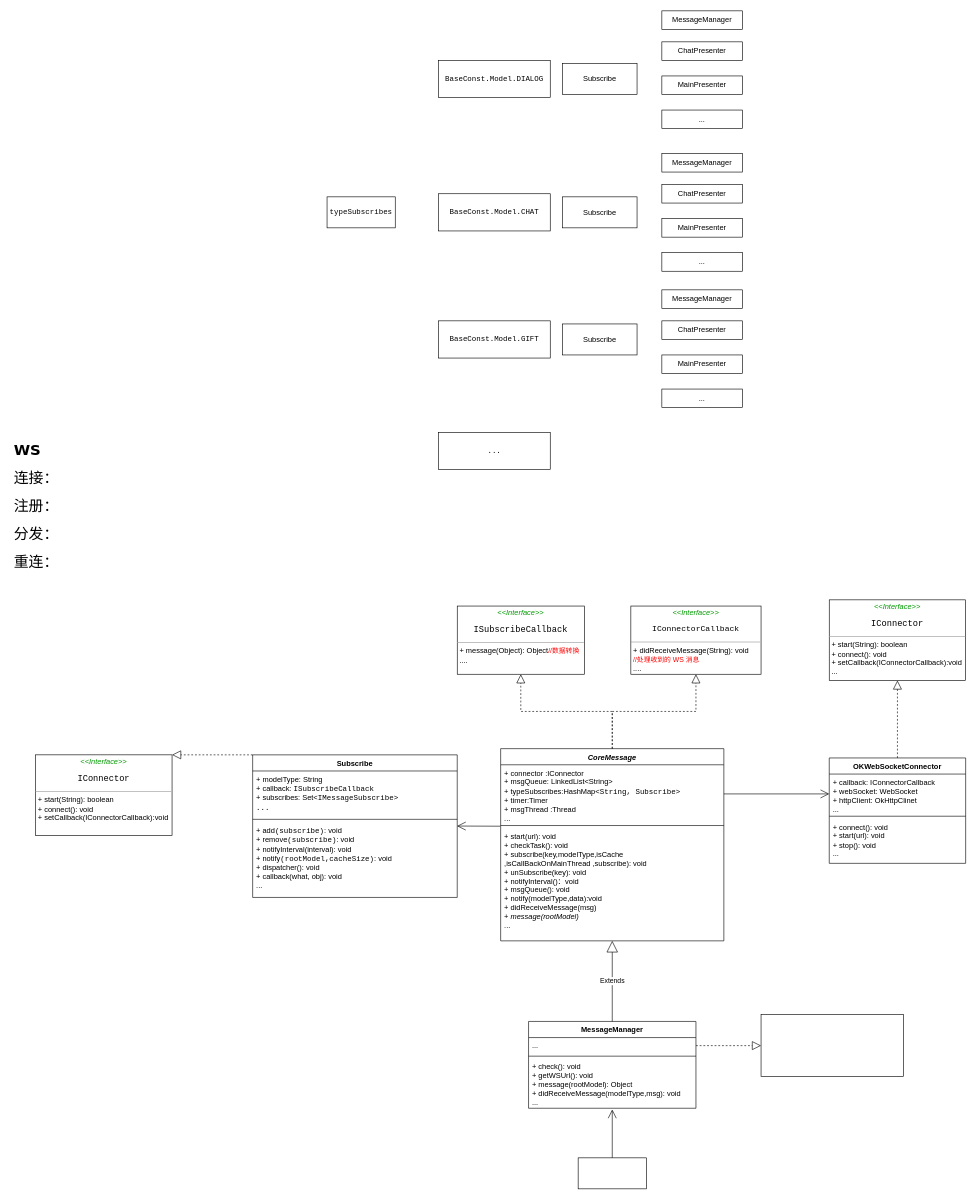
The diagram is 977 pixels wide and 1200 high, and some of its shapes have lost their labels. Each missing label, with the centre of its shape:
<<Interface>> IMessageSubscribe + did Receiv eMessage(String,List): void: point 832,1045
Application: point 612,1173
